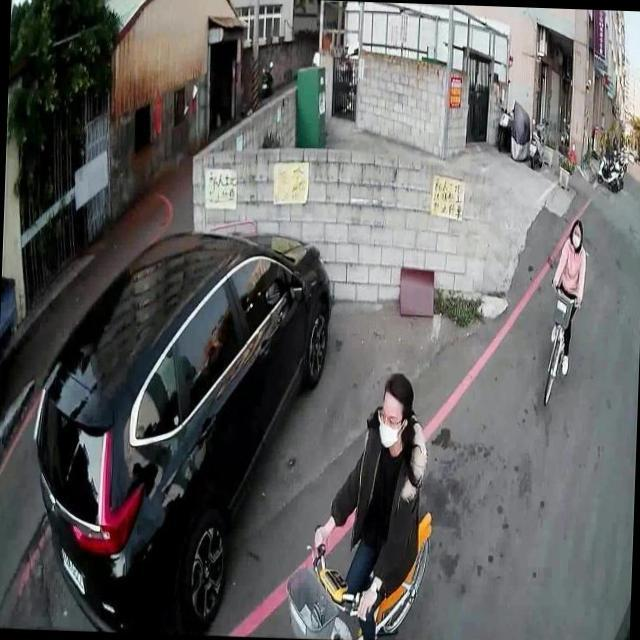person: (308, 363, 432, 638), (547, 211, 588, 376)
